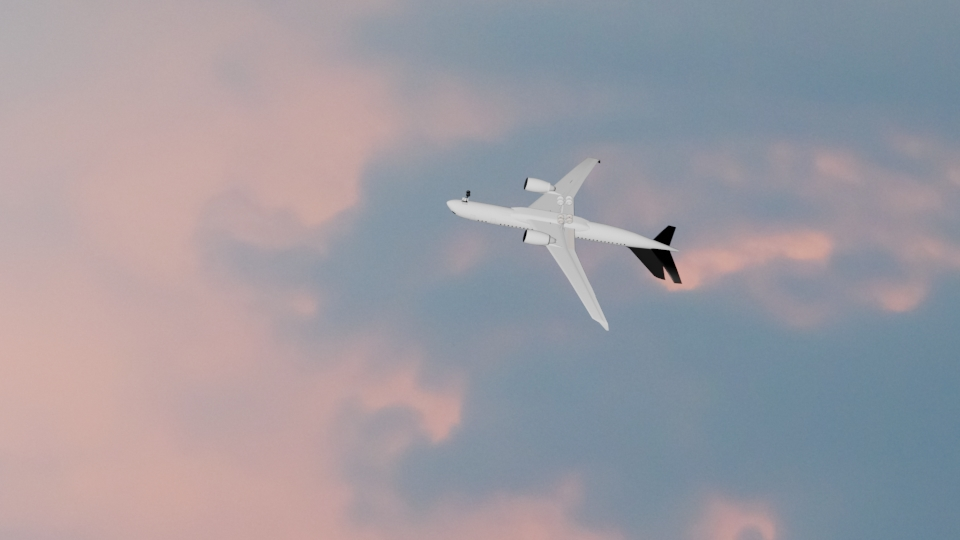plane: (442, 157, 683, 334)
